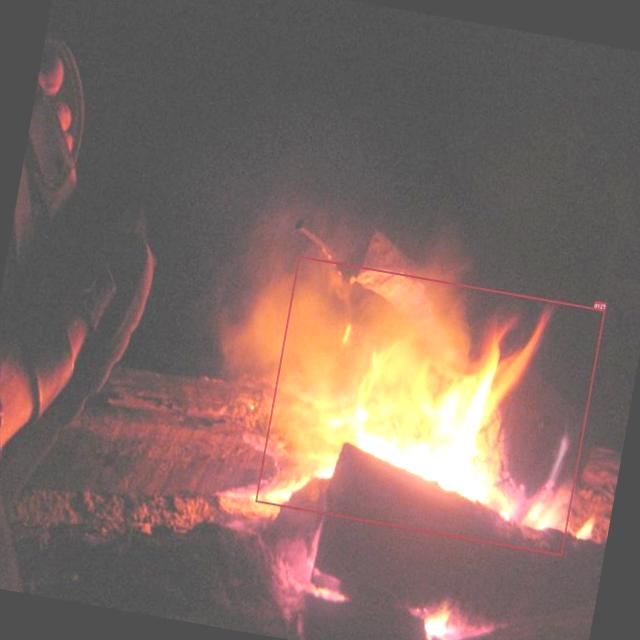fire: (255, 255, 606, 555)
